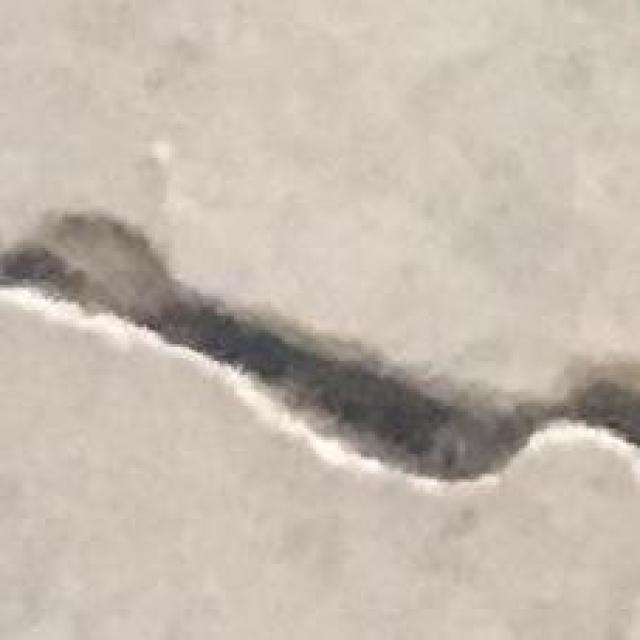diagonal crack: (0, 245, 639, 481)
